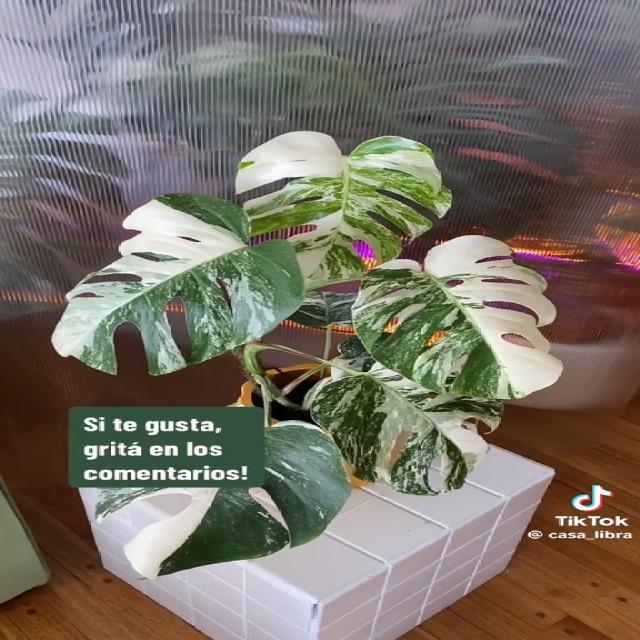lisc_variegata: (49, 194, 307, 377), (89, 420, 352, 580), (349, 235, 566, 400), (235, 131, 454, 280), (308, 361, 508, 496), (288, 290, 363, 331)
roslina_variegata: (49, 131, 563, 582)
